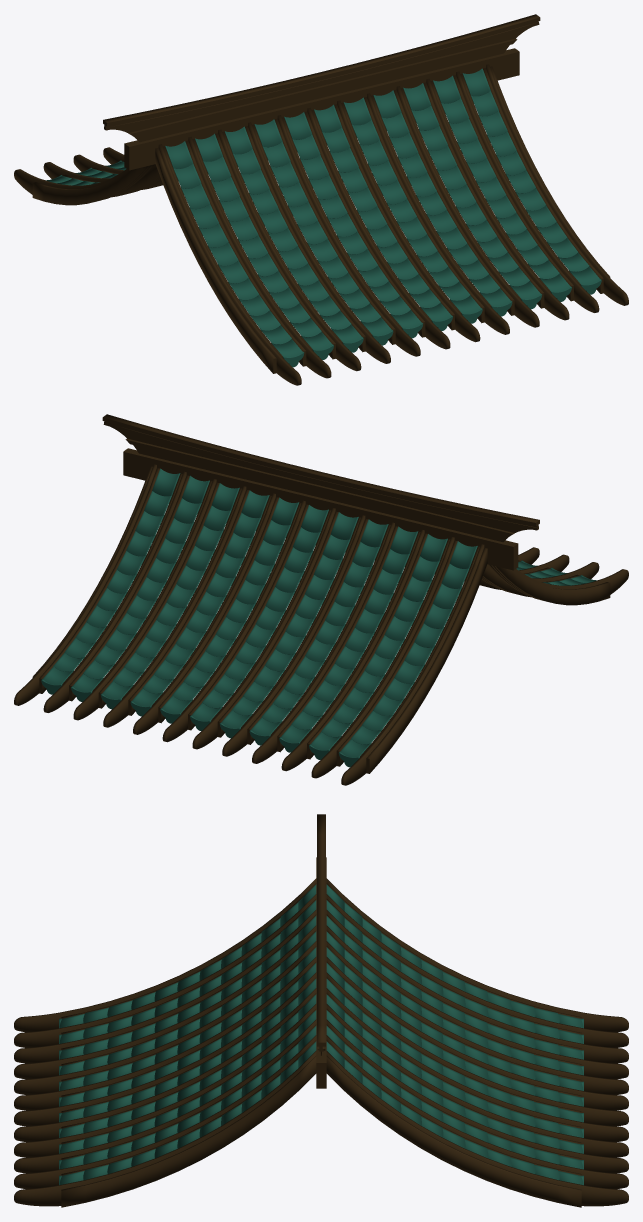
File: TempleRoof.fbx
3 renders of one model, top to bottom at view 1: azimuth 30°, elevation 25°; view 2: azimuth 150°, elevation 25°; view 3: azimuth 270°, elevation 25°, orthographic. The views are drawn at different scales.
Visible parts, largest first — view 1: Frame, Tiles, RoofCaps; view 2: Frame, Tiles, RoofCaps; view 3: Frame, Tiles.
Part boxes in pixels (x1,y1,x2,y2): Frame: (14, 14, 628, 385); Tiles: (47, 68, 599, 357); RoofCaps: (46, 160, 601, 367); Frame: (14, 414, 628, 785); Tiles: (43, 468, 595, 757); RoofCaps: (41, 560, 596, 767); Frame: (14, 814, 628, 1207); Tiles: (60, 884, 582, 1184).
Size of the model in its own units: 1671 by 651 by 1901.
